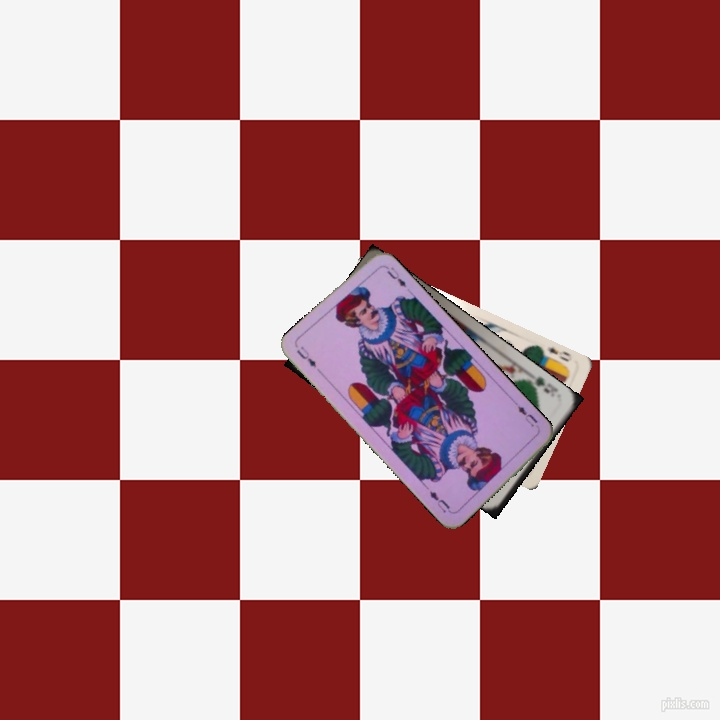EO: (538, 343, 573, 367)
EU: (510, 398, 540, 429), (292, 342, 319, 370)
GK: (526, 372, 561, 396)
